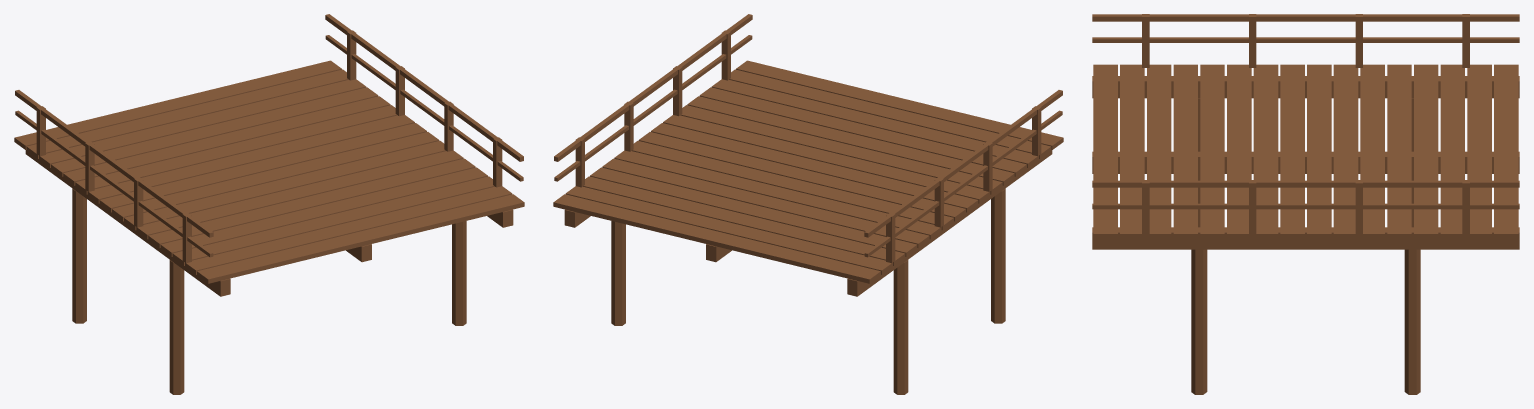
Rendered from Bridge_Wood_2Lane_8m.glb.
3 renders of one model, left to right at view 1: azimuth 30°, elevation 25°; view 2: azimuth 150°, elevation 25°; view 3: azimuth 270°, elevation 25°, orthographic. The views are drawn at different scales.
Parts seen in each view (by area): view 1: Bridge_Wood_2Lane_8m_Wood; view 2: Bridge_Wood_2Lane_8m_Wood; view 3: Bridge_Wood_2Lane_8m_Wood.
Boxes of the visible parts, box(x1,y1,x2,y2) form: Bridge_Wood_2Lane_8m_Wood: box(14, 14, 524, 394); Bridge_Wood_2Lane_8m_Wood: box(553, 14, 1063, 394); Bridge_Wood_2Lane_8m_Wood: box(1092, 14, 1519, 394).
Bounding box in the file's own units: 7.5 × 4.5 × 8.
